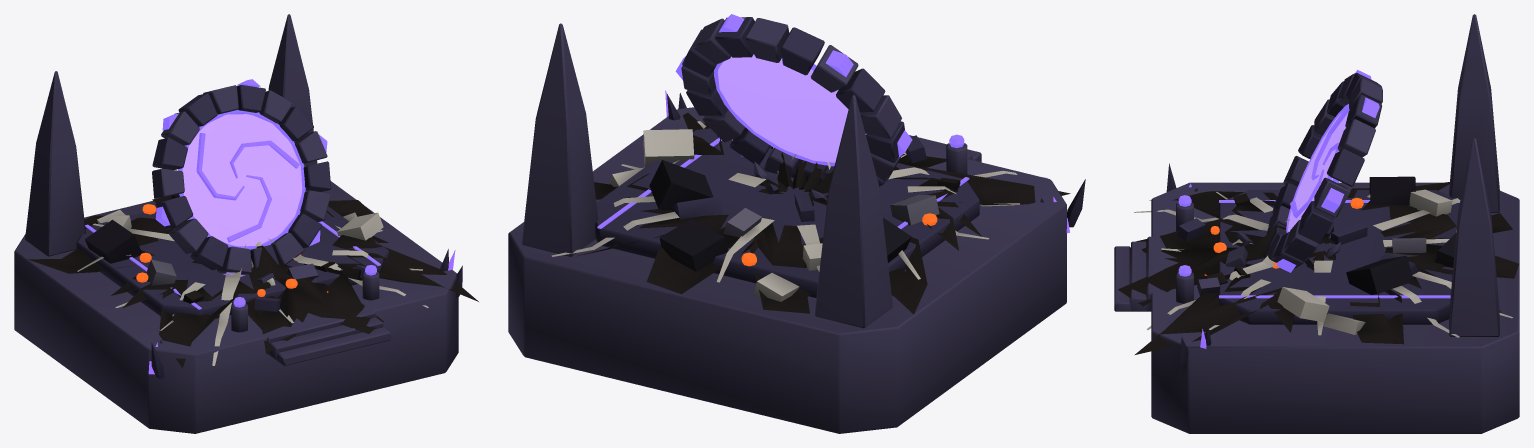
Rendered from gate-ring-umbra.glb.
3 renders of one model, left to right at view 1: azimuth 30°, elevation 25°; view 2: azimuth 150°, elevation 25°; view 3: azimuth 270°, elevation 25°, orthographic. The views are drawn at different scales.
Visible parts, largest first — view 1: site_gate_ring_umbra_body, site_gate_ring_umbra_ruin, site_gate_ring_umbra_core; view 2: site_gate_ring_umbra_body, site_gate_ring_umbra_ruin, site_gate_ring_umbra_core; view 3: site_gate_ring_umbra_body, site_gate_ring_umbra_ruin, site_gate_ring_umbra_core.
Boxes of the visible parts, x1,y1,x2,y2 form: site_gate_ring_umbra_body: [14, 14, 462, 433]; site_gate_ring_umbra_ruin: [28, 194, 478, 367]; site_gate_ring_umbra_core: [182, 114, 302, 246]; site_gate_ring_umbra_body: [508, 14, 1085, 433]; site_gate_ring_umbra_ruin: [551, 112, 1070, 314]; site_gate_ring_umbra_core: [717, 54, 866, 162]; site_gate_ring_umbra_body: [1114, 14, 1519, 433]; site_gate_ring_umbra_ruin: [1118, 176, 1518, 354]; site_gate_ring_umbra_core: [1288, 105, 1349, 231].
Bounding box in the file's own units: 5.34 × 4.05 × 5.39.
